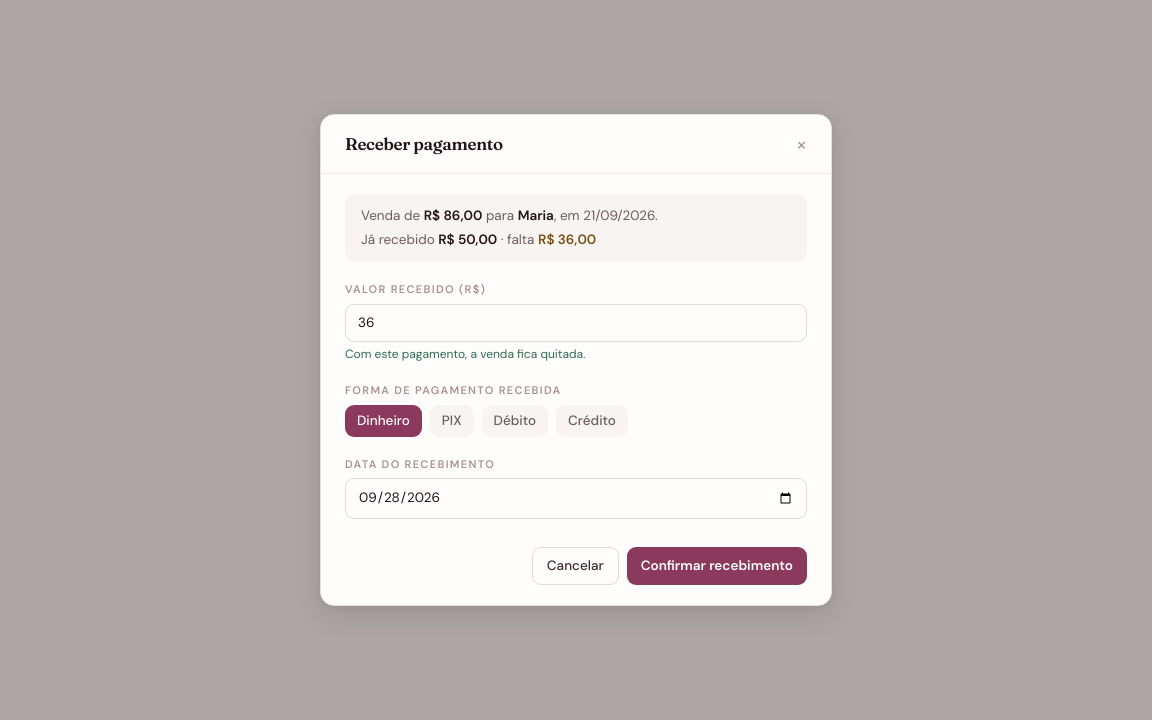
Scenario: Receber pagamento › should_refuse_an_amount_above_what_is_due_without_sending
Clear the field labelled "Valor recebido (R$)" at {"x": 576, "y": 323}, box [345,304,807,342]
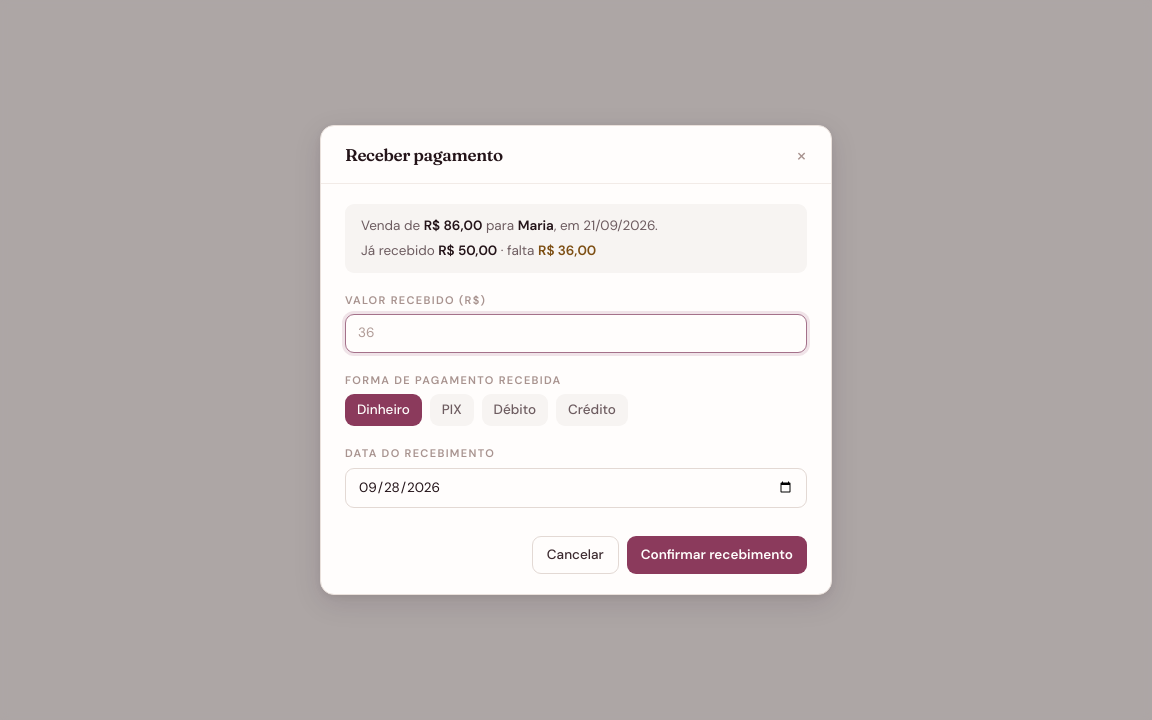
Type "40" into the field labelled "Valor recebido (R$)" at {"x": 576, "y": 333}, box [345,314,807,353]
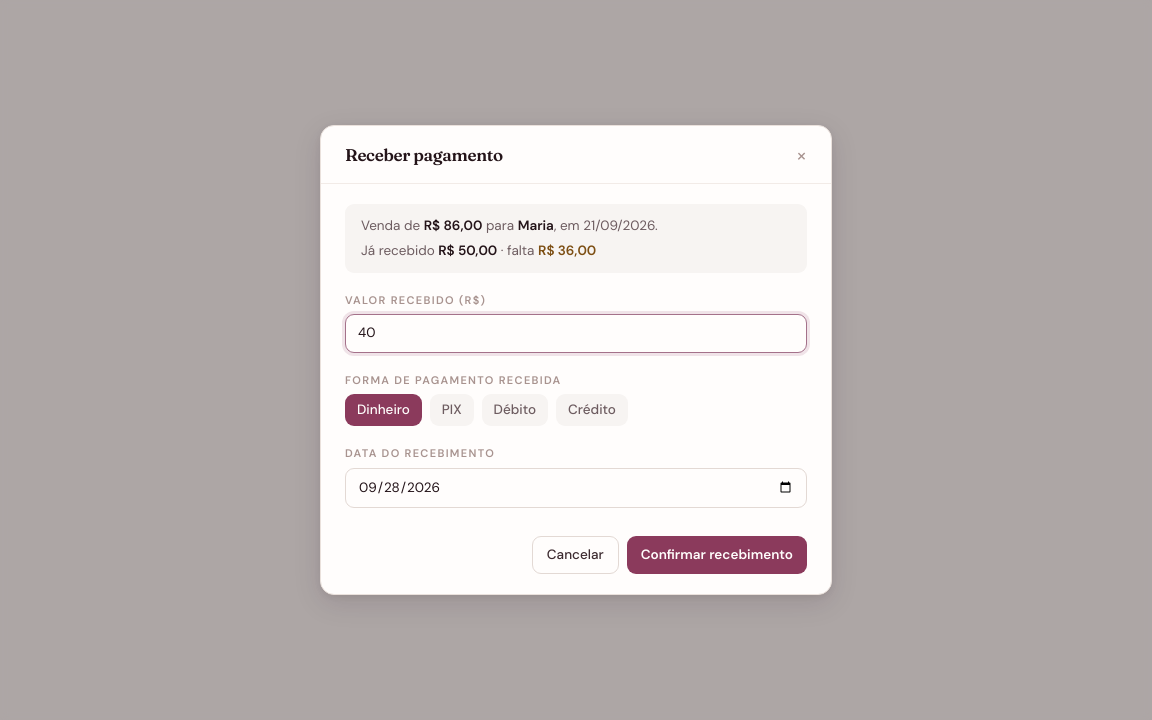
Click the button "Confirmar recebimento" at {"x": 717, "y": 555}, box [627,536,807,574]
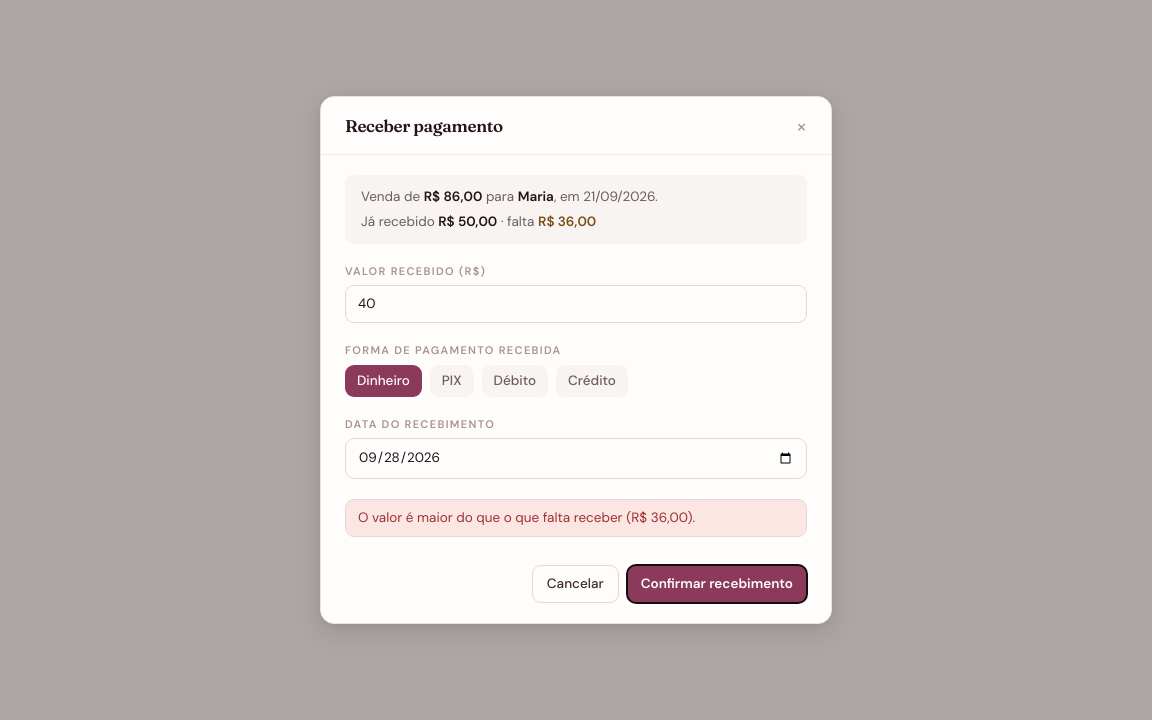
Expected: the text "O valor é maior do que o que falta receber (R$ 36,00)." is shown, [345,499,807,537]
